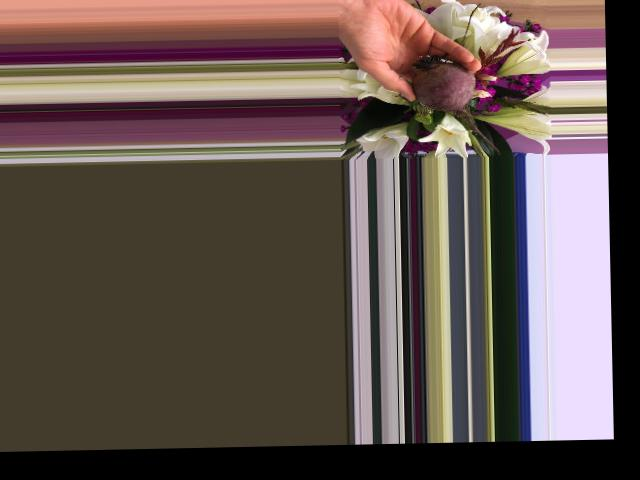beet: (411, 53, 501, 154)
